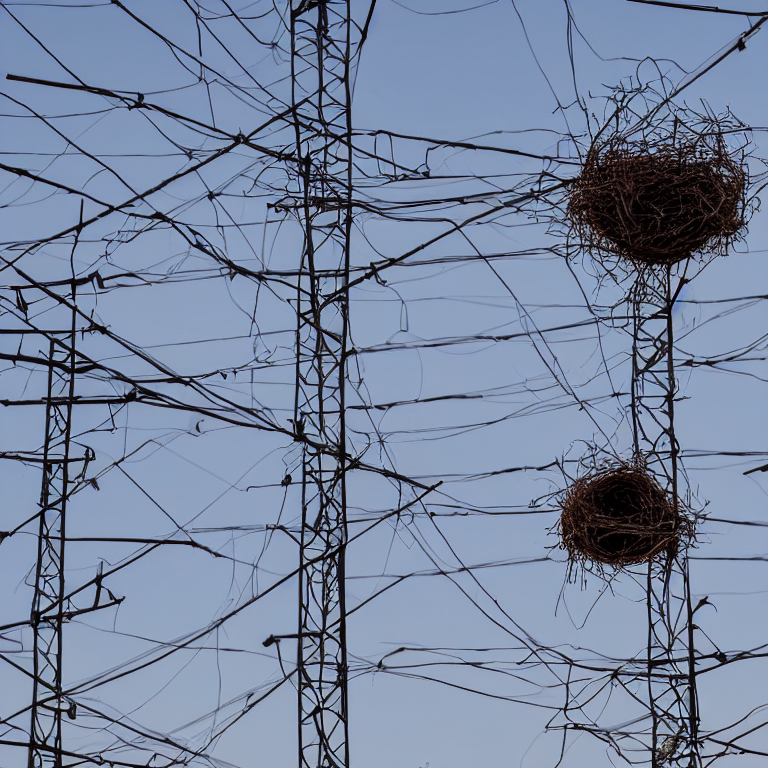nest: (575, 149, 746, 266), (563, 469, 683, 563)
